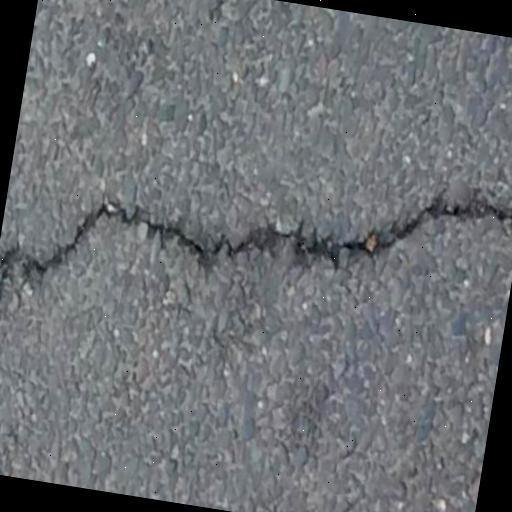spalling: (0, 191, 512, 293)
